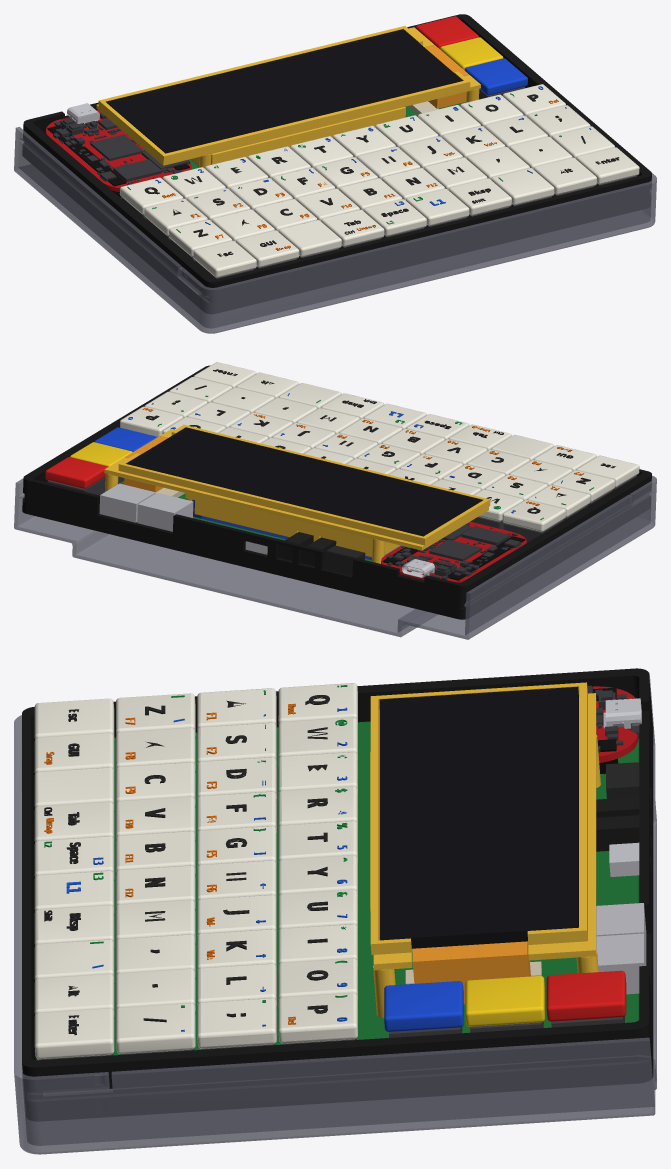
Rendered from cradle_midnight.glb.
3 views of the same model, one above another, from view 1: azimuth 30°, elevation 25°; view 2: azimuth 150°, elevation 25°; view 3: azimuth 270°, elevation 25° (orthographic). The views are drawn at different scales.
Parts seen in each view (by area): view 1: Internals, Lid, Tray; view 2: Internals, Lid, Tray; view 3: Internals, Lid, Tray.
Part boxes in pixels (box(x1,y1,x2,y2)): Internals: box(46, 16, 639, 278); Lid: box(14, 127, 656, 333); Tray: box(23, 14, 651, 313); Internals: box(45, 362, 639, 582); Lid: box(14, 475, 656, 639); Tray: box(22, 365, 651, 619); Internals: box(34, 682, 646, 1060); Lid: box(14, 672, 656, 1154); Tray: box(22, 668, 653, 1120).
Bounding box in the file's own units: 0.1818 × 0.0365 × 0.1342.
